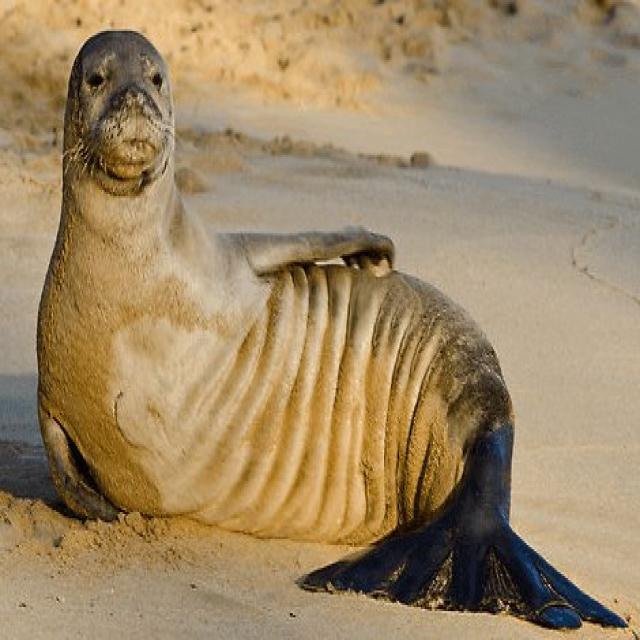seal: (38, 31, 622, 628)
